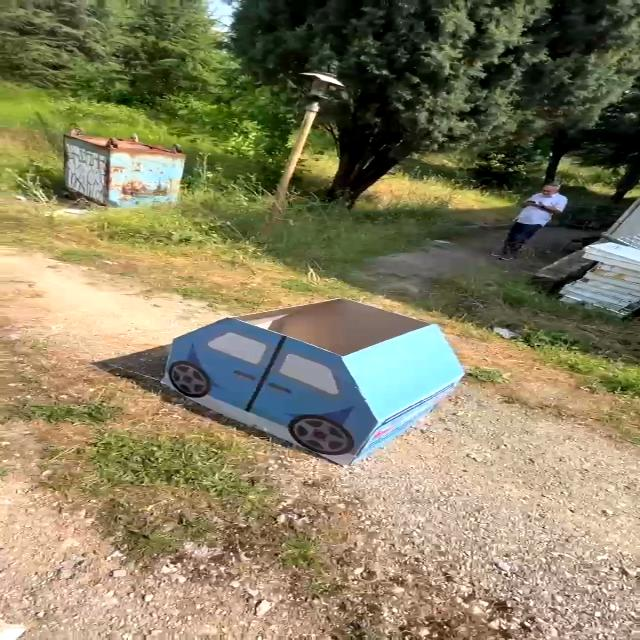blue_car: (132, 297, 516, 470)
